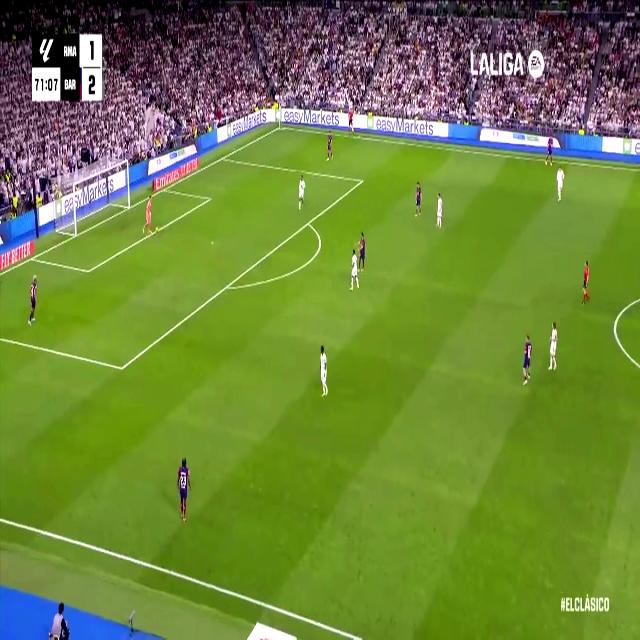bigarea_bottom_inner: (116, 356, 126, 379)
bigarea_top_inner: (358, 174, 364, 186)
bigarea_top_outter: (219, 150, 227, 163)
bottom_arc_area_intersection: (222, 277, 232, 295)
corner: (276, 121, 284, 131)
smallarea_top_inner: (206, 194, 212, 202)
top_arc_area_intersection: (304, 214, 312, 230)
